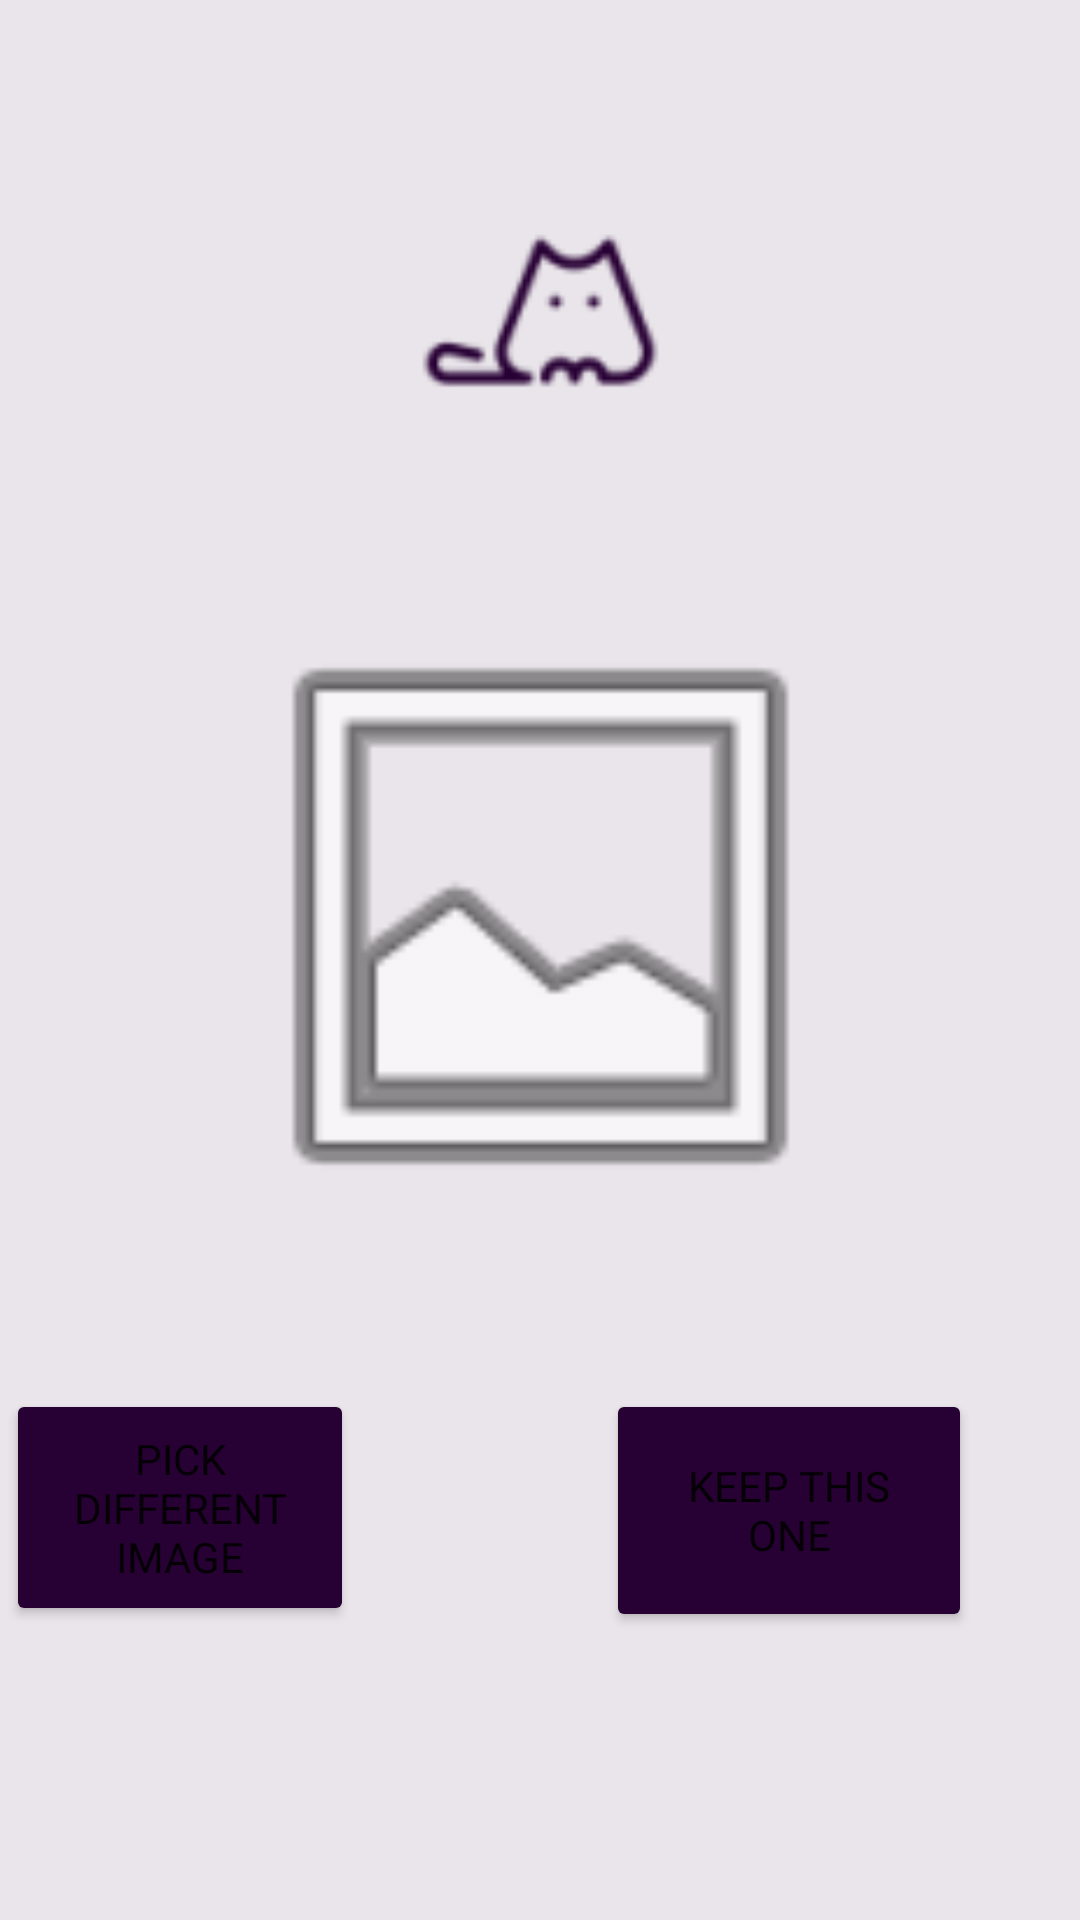

Named icons in this screenshot (1080 x 1920) and their centers, point (x, y):
catifier: point (540, 311)
